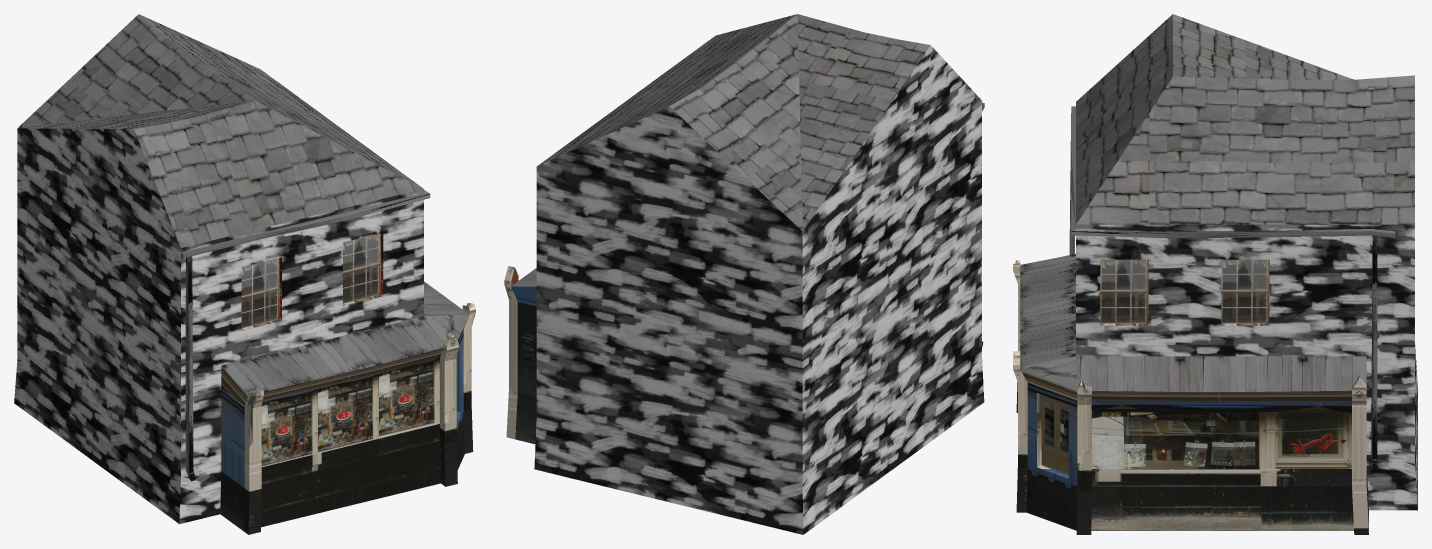
The model's file is shop_01.glb.
3 views of the same model, side by side, from view 1: azimuth 30°, elevation 25°; view 2: azimuth 150°, elevation 25°; view 3: azimuth 270°, elevation 25° (orthographic). The views are drawn at different scales.
Visible parts, largest first — view 1: walls-col, roof-col, shop_front-col, windows-col, Trim, shop_front-col.001; view 2: walls-col, roof-col, shop_front-col; view 3: roof-col, shop_front-col, walls-col, windows-col, Trim, door-col.
Part boxes in pixels (bbox=[...]): walls-col: bbox=[14, 128, 423, 523]; roof-col: bbox=[18, 14, 469, 395]; shop_front-col: bbox=[220, 303, 475, 534]; windows-col: bbox=[241, 233, 380, 328]; Trim: bbox=[181, 190, 430, 481]; shop_front-col.001: bbox=[241, 233, 383, 330]; walls-col: bbox=[534, 45, 984, 534]; roof-col: bbox=[511, 14, 930, 286]; shop_front-col: bbox=[504, 266, 536, 444]; roof-col: bbox=[1020, 14, 1414, 391]; shop_front-col: bbox=[1013, 260, 1368, 534]; walls-col: bbox=[1076, 224, 1417, 510]; windows-col: bbox=[1100, 259, 1269, 323]; Trim: bbox=[1069, 106, 1395, 467]; door-col: bbox=[1041, 394, 1068, 474].
Bounding box in the file's own units: 7.35 × 8.5 × 8.36.
6 materials, 6 textured.
